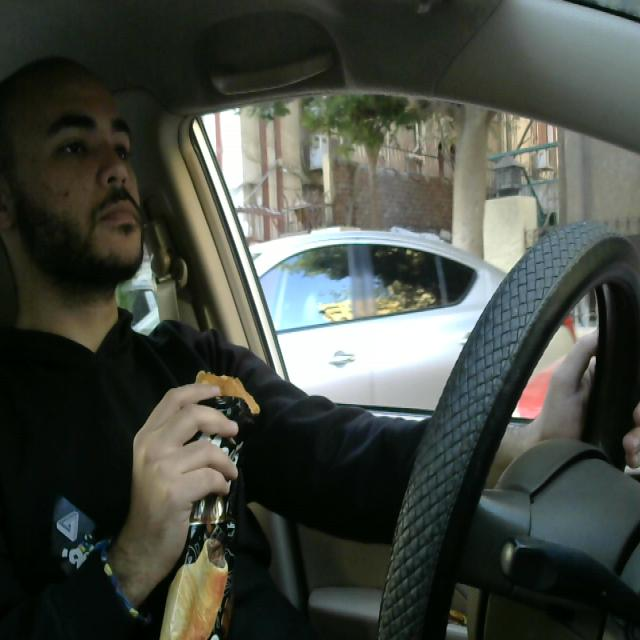eating: (150, 359, 261, 640)
